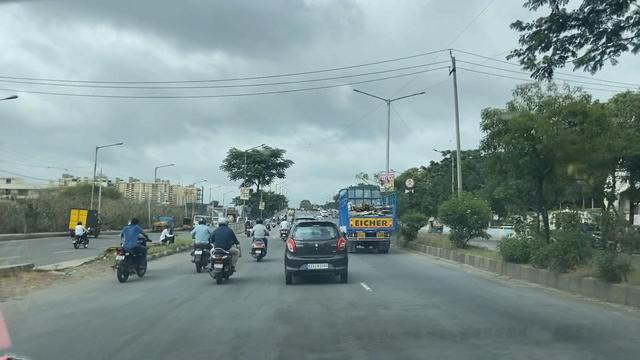LMV: (283, 221, 351, 279), (109, 220, 159, 283), (213, 216, 242, 280), (246, 220, 277, 263), (190, 219, 211, 267)
